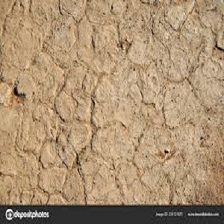sandy_soil: (11, 15, 209, 200)
